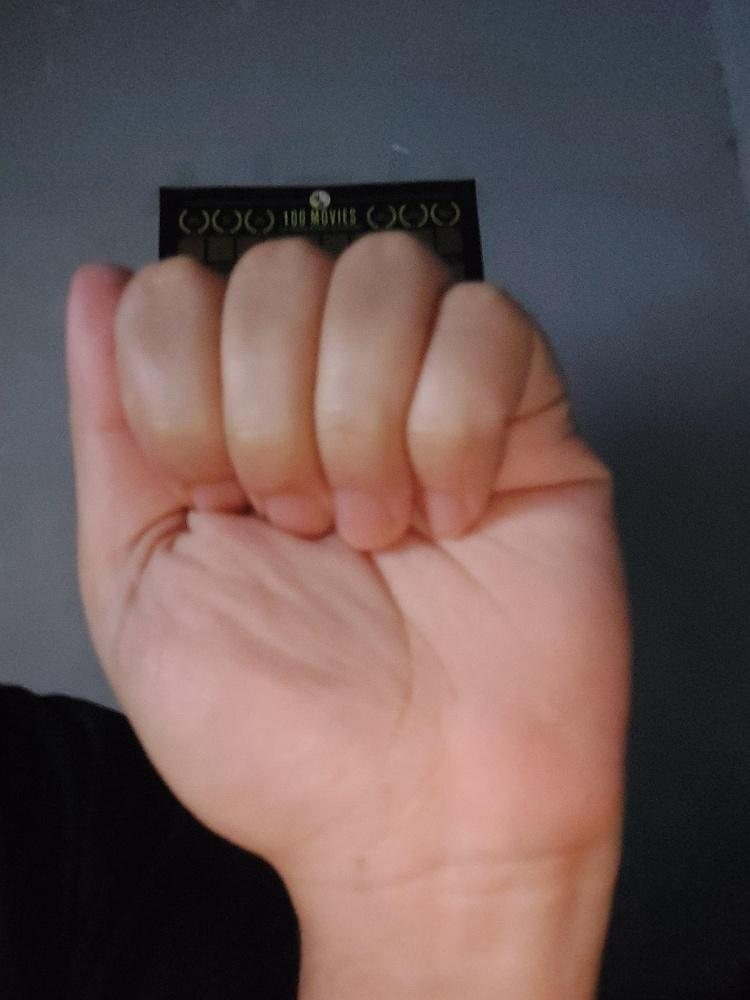a: (56, 230, 635, 857)
